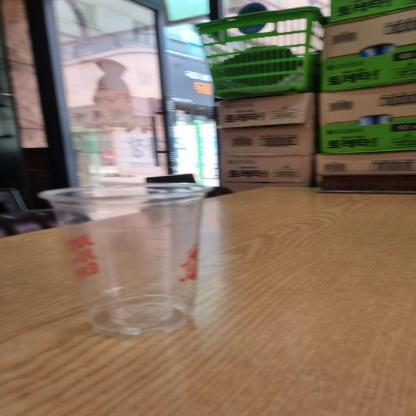Plastic Cup: (40, 181, 216, 335)
